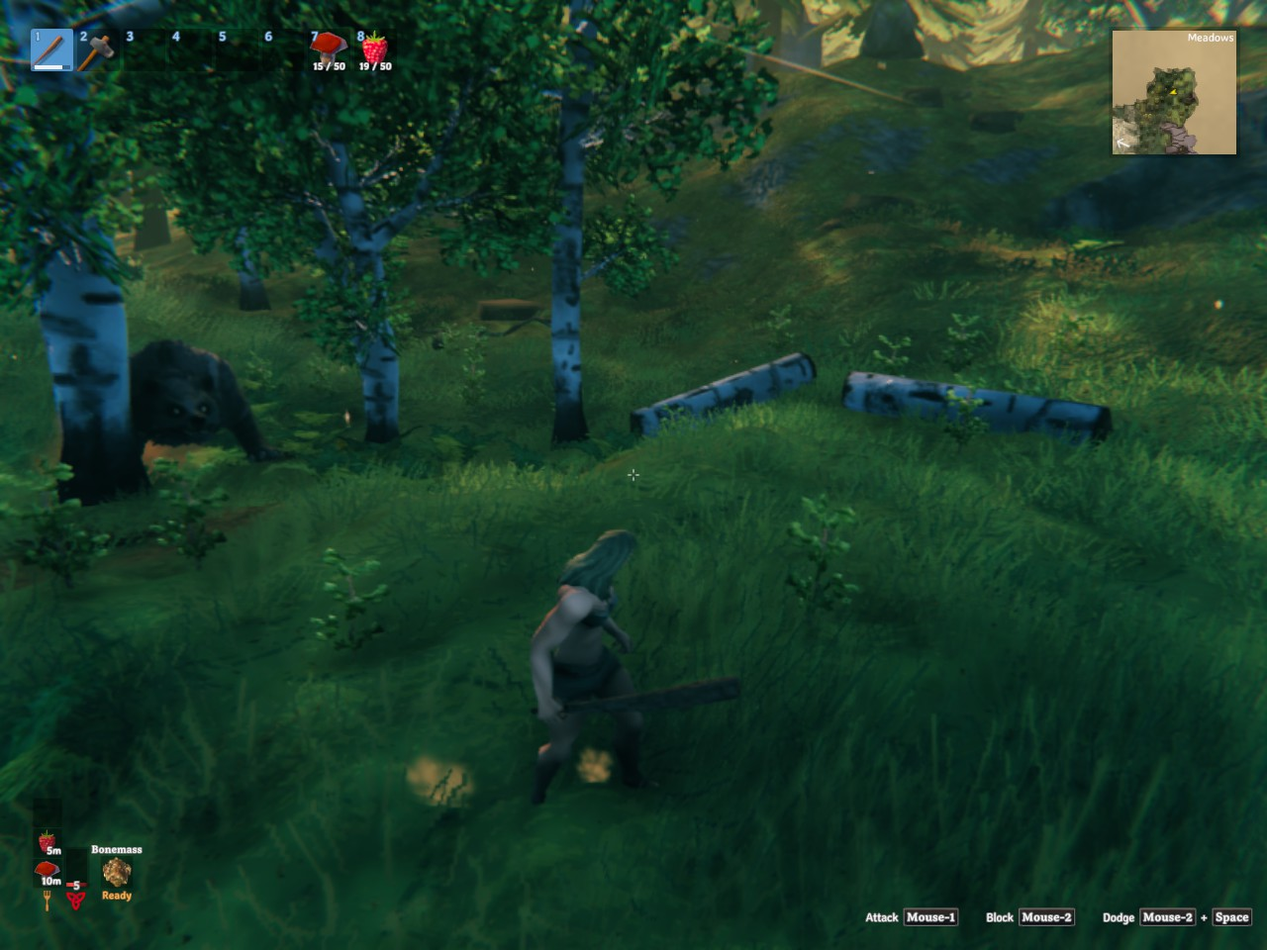Bear: (130, 340, 288, 460)
